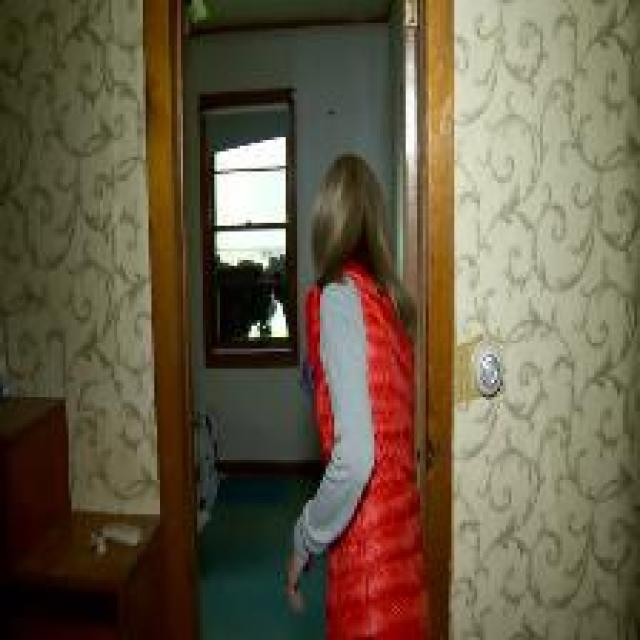other: (350, 274, 417, 634)
